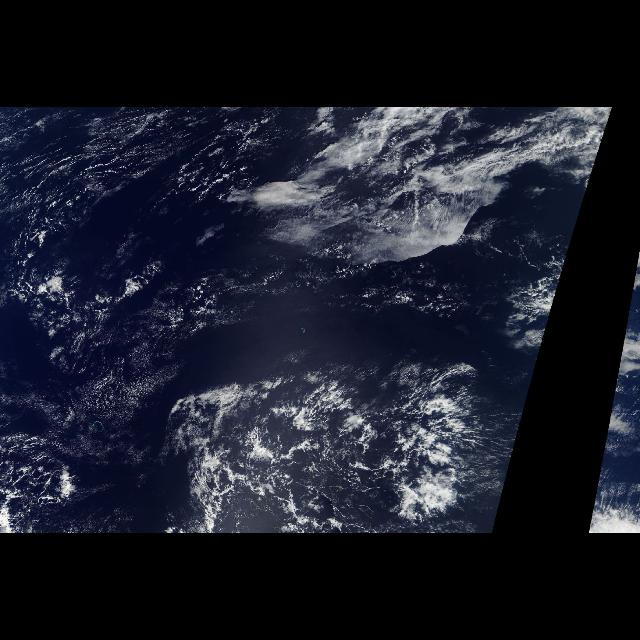Gravel: (4, 110, 174, 318)
Sugar: (6, 115, 224, 235)
